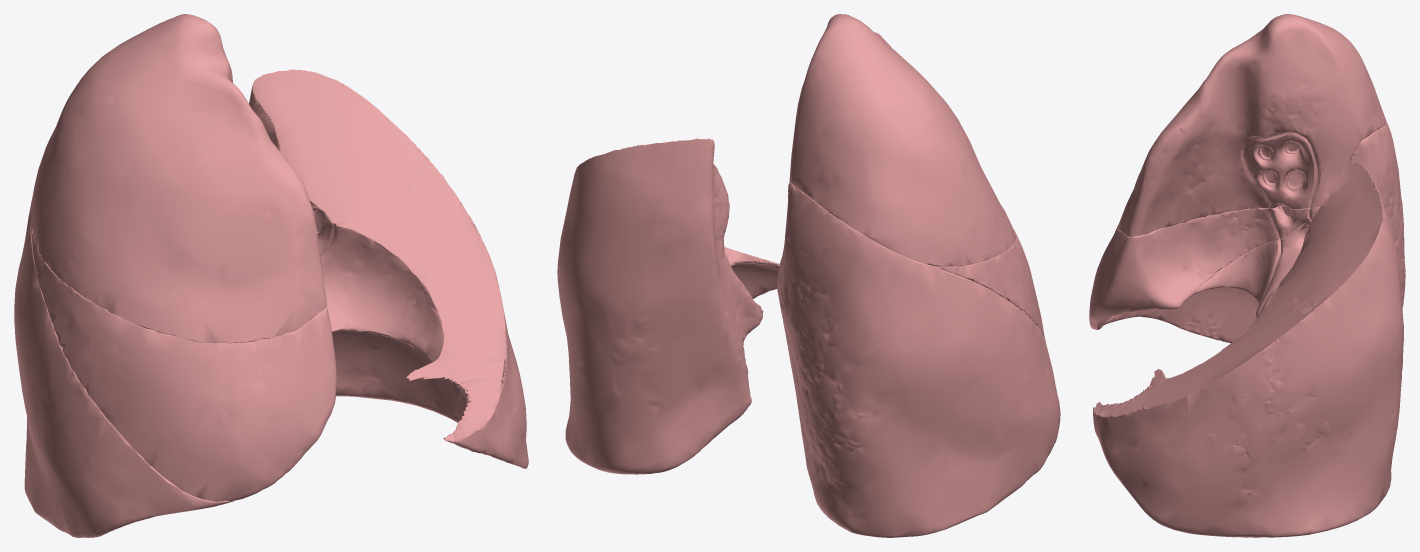
File: paruParu.glb
The picture shows the model from 3 angles, left to right: view 1: azimuth 30°, elevation 25°; view 2: azimuth 150°, elevation 25°; view 3: azimuth 270°, elevation 25°; orthographic projection. The views are drawn at different scales.
Parts seen in each view (by area): view 1: paru-paru; view 2: paru-paru; view 3: paru-paru.
Boxes of the visible parts, box(x1,y1,x2,y2) form: paru-paru: box(14, 14, 528, 537); paru-paru: box(557, 14, 1060, 537); paru-paru: box(1089, 14, 1405, 537).
Size of the model in its own units: 0.2533 by 0.2576 by 0.1809.
